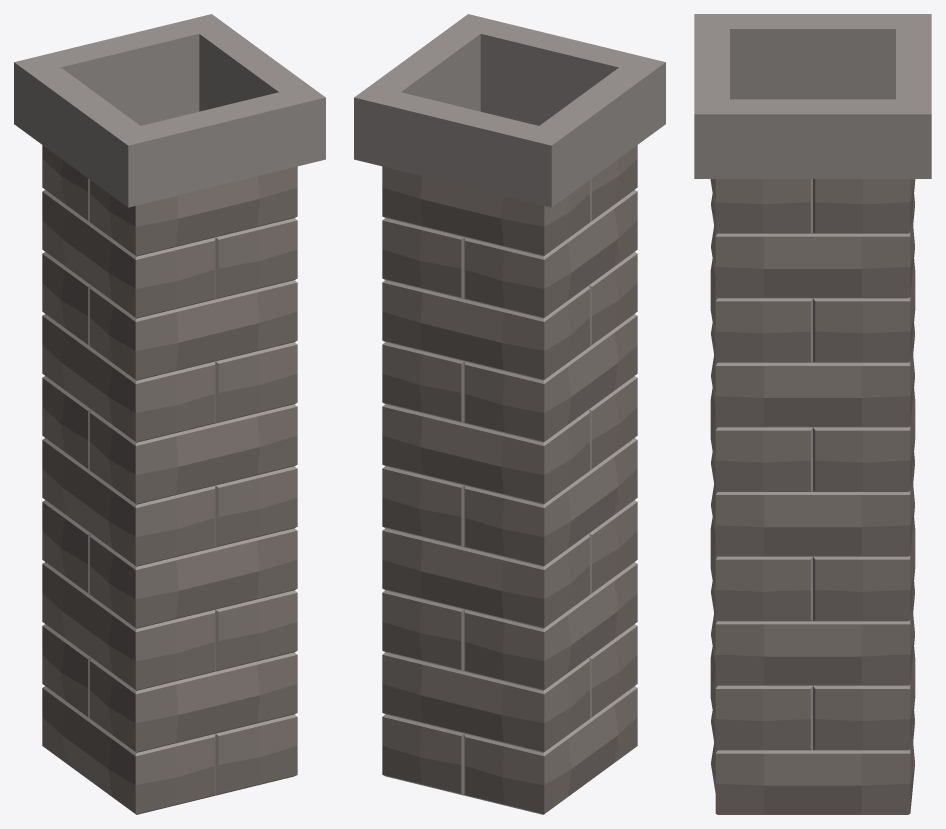
The model's file is Chimney.fbx.
3 views of the same model, side by side, from view 1: azimuth 30°, elevation 25°; view 2: azimuth 150°, elevation 25°; view 3: azimuth 270°, elevation 25° (orthographic). The views are drawn at different scales.
Visible parts, largest first — view 1: Chimney; view 2: Chimney; view 3: Chimney.
Boxes of the visible parts, x1,y1,x2,y2 form: Chimney: (14,14,325,814); Chimney: (354,14,665,814); Chimney: (694,14,931,814).
Bounding box in the file's own units: 1 × 1 × 3.3.
